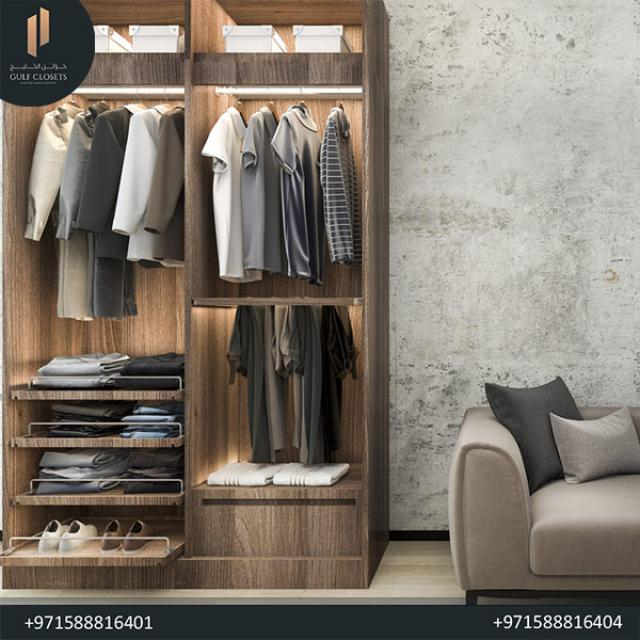a sofa: (438, 371, 640, 603)
wardrobe: (15, 12, 384, 590)
